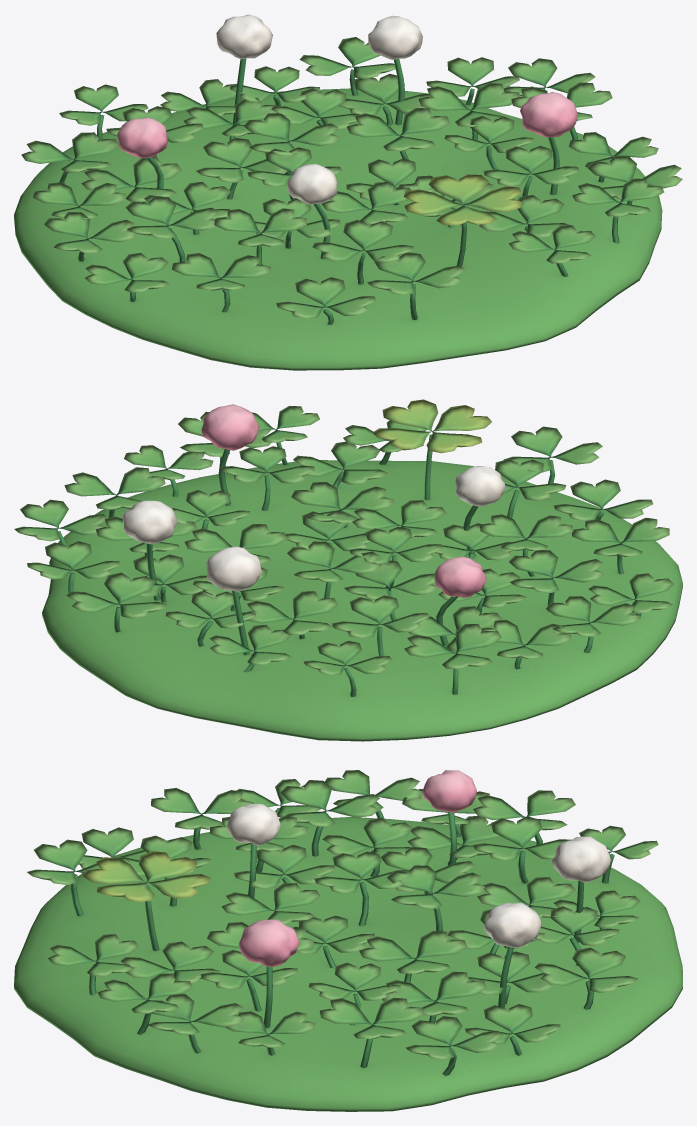
The model's file is Clover_Patch.fbx.
The picture shows the model from 3 angles, top to bottom: view 1: azimuth 30°, elevation 25°; view 2: azimuth 150°, elevation 25°; view 3: azimuth 270°, elevation 25°; orthographic projection. The views are drawn at different scales.
Parts seen in each view (by area): view 1: Clover_Patch; view 2: Clover_Patch; view 3: Clover_Patch.
Part boxes in pixels (x1,y1,x2,y2): Clover_Patch: [14, 14, 682, 370]; Clover_Patch: [14, 399, 682, 741]; Clover_Patch: [14, 770, 682, 1111].
Size of the model in its own units: 0.65 by 0.14 by 0.627.
Materials: 1 (1 with a texture image).
